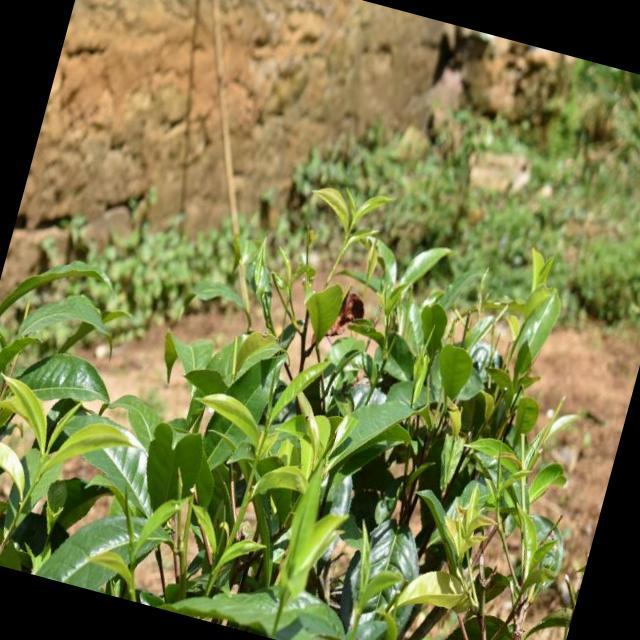Stem: (356, 609, 361, 617), (40, 458, 44, 463), (342, 248, 346, 252), (265, 429, 268, 433)
